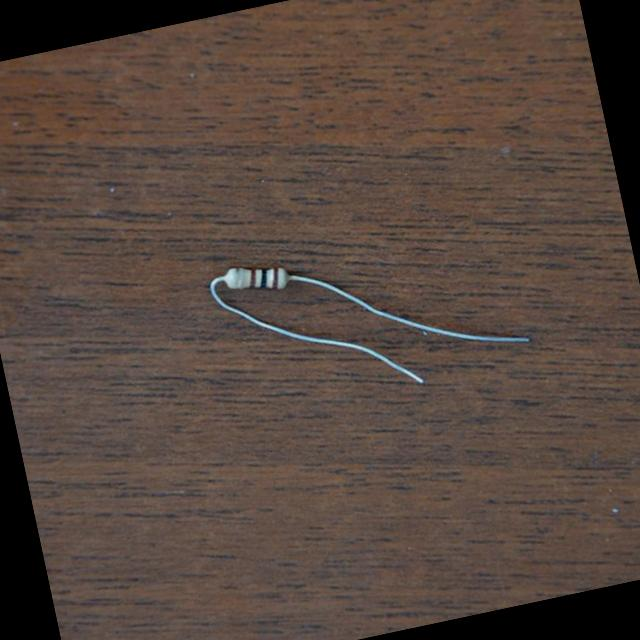Resistor: (220, 267, 293, 289)
black: (260, 268, 267, 286)
brown: (272, 265, 280, 288), (248, 268, 257, 287)
silver: (235, 264, 242, 286)
